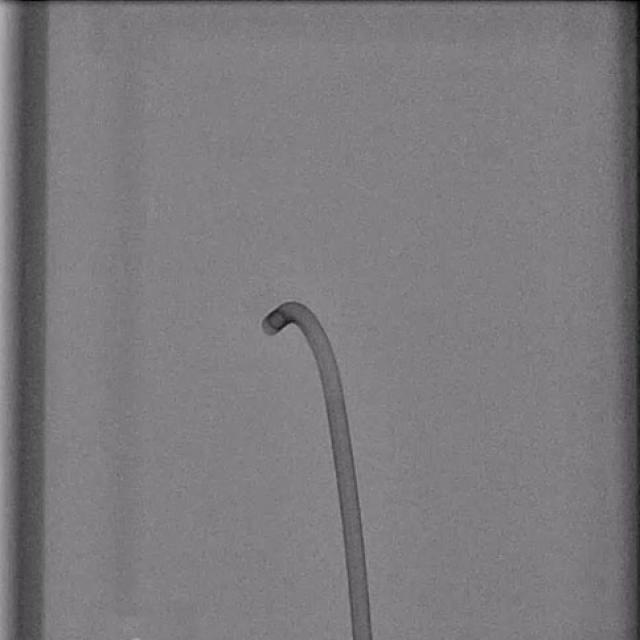bend: (323, 385, 343, 398)
entry: (353, 635, 372, 640)
marker: (268, 308, 288, 331), (285, 325, 286, 327)
tip: (260, 320, 275, 336)
